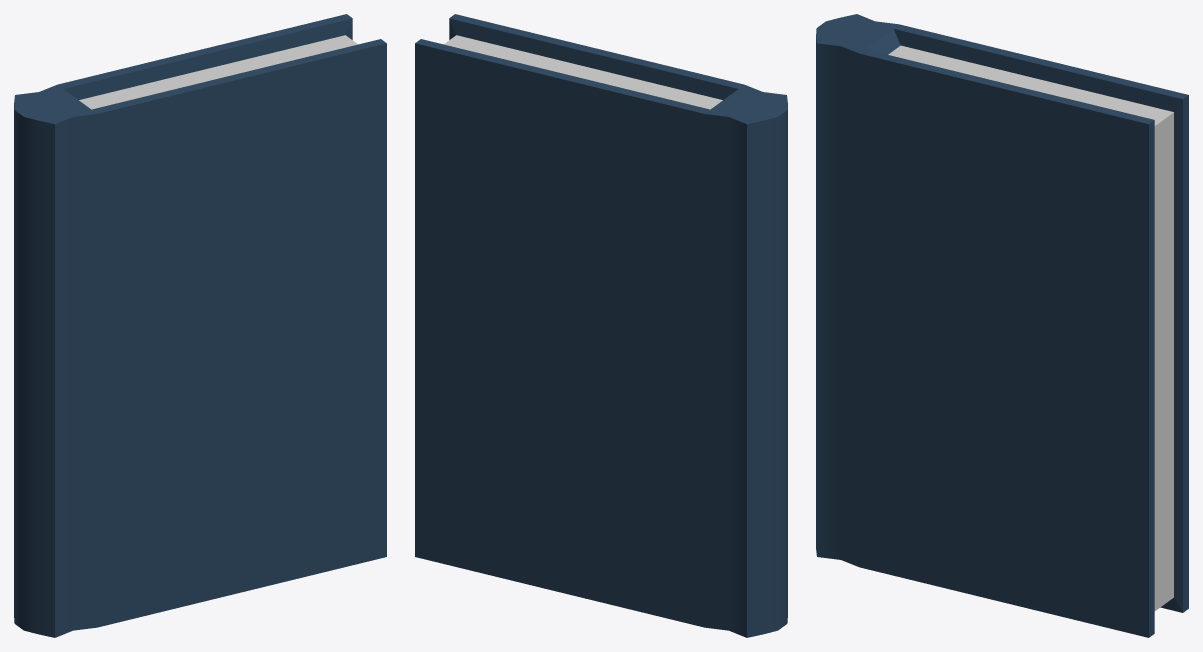
File: book_3.fbx
3 renders of one model, left to right at view 1: azimuth 30°, elevation 25°; view 2: azimuth 150°, elevation 25°; view 3: azimuth 330°, elevation 25°, orthographic.
Parts seen in each view (by area): view 1: pCube1; view 2: pCube1; view 3: pCube1.
Part boxes in pixels (box(x1,y1,x2,y2)): pCube1: box(14, 14, 386, 637); pCube1: box(415, 14, 787, 637); pCube1: box(816, 14, 1188, 637).
Bounding box in the file's own units: 11.6 × 16.38 × 2.31.
